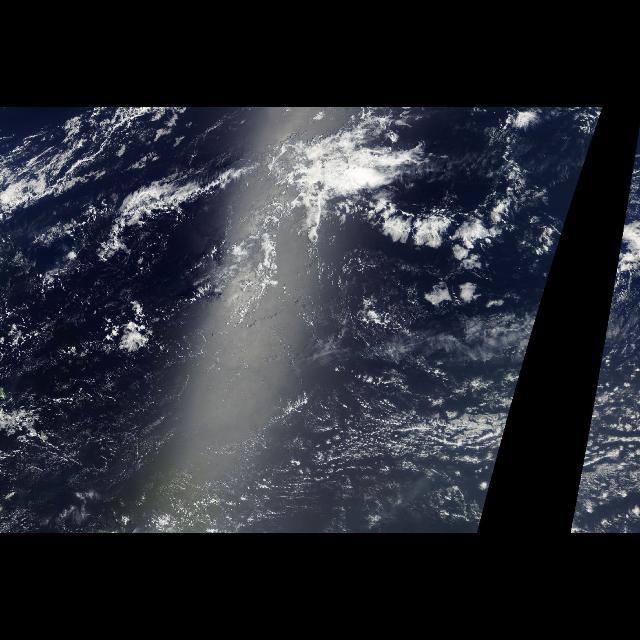Gravel: (266, 413, 509, 491), (577, 413, 639, 491)
Sugar: (76, 383, 378, 525)
